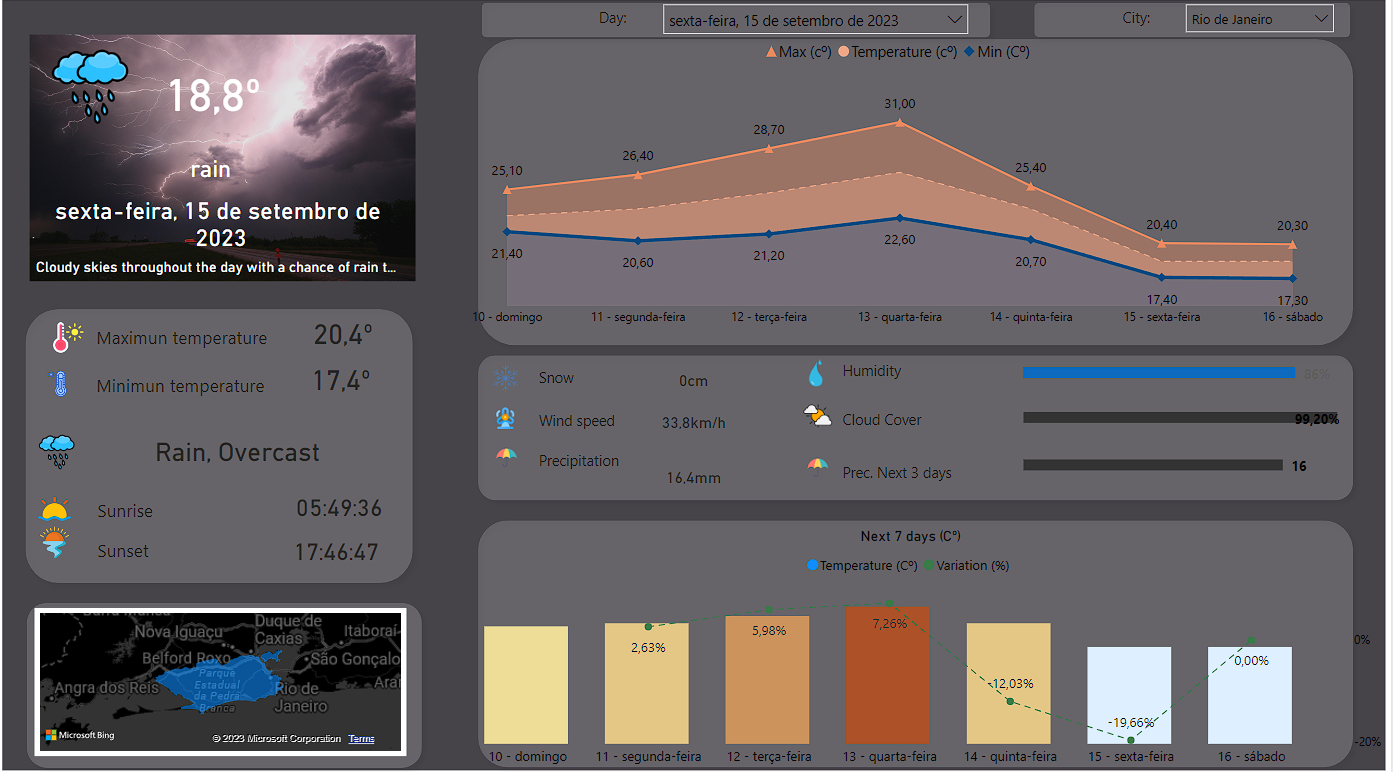

This screenshot's page, from the dashboard's own definition file:
{"tool":"powerbi","page":{"name":"Dashboard Weather","canvas":[1280,720],"ordinal":0},"visuals":[{"type":"cardVisual","fields":{"Data":["Max(Condicoes.conditions)"]},"box":[0,1.4,1280.3,718.7],"z":0},{"type":"cardVisual","fields":{"Data":["Max(Condicoes.conditions)"]},"box":[8.8,13,401,282.4],"z":1000},{"type":"shape","box":[16.7,280.8,373.9,269.7],"z":2000},{"type":"shape","box":[18.1,550.5,380.9,169.6],"z":3000},{"type":"shape","box":[432.3,475.4,821.5,244.7],"z":4000},{"type":"shape","box":[432.3,33.4,821.5,298.9],"z":5000},{"type":"shape","box":[432.3,323.9,821.5,151.5],"z":6000},{"type":"shape","box":[436.6,0,484.8,49.7],"z":7000},{"type":"shape","box":[943.6,0,308.3,49.4],"z":8000},{"type":"areaChart","title":"Next 7 days","fields":{"Category":["Dim_calendar.WeekDay/DayName"],"Y":["Sum(Temperatura.feelslikemax)","Sum(Temperatura.temp)","Sum(Temperatura.feelslikemin)"]},"box":[416.1,33.8,827.3,281],"z":9000},{"type":"slicer","fields":{"Values":["Dim_City.Cidade"]},"box":[1081.8,0,156.8,41],"z":10000},{"type":"card","fields":{"Values":["Max(Temperatura.Temp_)"]},"box":[129.6,43.3,136.9,92.9],"z":11000},{"type":"card","fields":{"Values":["Max(Temperatura.Maxima)"]},"box":[279.4,291.9,77.8,41.7],"z":12000},{"type":"card","fields":{"Values":["Min(Temperatura.Temp_min)"]},"box":[278,332.2,76.5,45.9],"z":13000},{"type":"card","fields":{"Values":["Max(Condicoes.conditions)"]},"box":[75.1,397.6,293.3,47.3],"z":14000},{"type":"barChart","title":"Huminade","fields":{"Category":["Condicoes.City"],"Y":["Medidas.Umidade"]},"box":[938.3,315.6,300.3,61.2],"z":15000},{"type":"barChart","fields":{"Category":["Condicoes.City"],"Y":["Medidas.CloudOver"]},"box":[938.3,354.5,300.3,65.3],"z":16000},{"type":"card","fields":{"Values":["Min(Dim_calendar.Date)"]},"box":[34.2,177.7,342.3,68.5],"z":17000},{"type":"card","fields":{"Values":["Max(Condicoes.icon)"]},"box":[74.6,143.3,243.3,35.4],"z":18000},{"type":"card","fields":{"Values":["Max(Condicoes.description)"]},"box":[29.3,232,342.3,42.8],"z":19000},{"type":"textbox","box":[85.6,299.1,177.3,37.4],"z":20000},{"type":"textbox","box":[86.2,344.7,176.5,33.4],"z":21000},{"type":"card","fields":{"Values":["Min(Condicoes.show)"]},"box":[601.4,342.3,77,25.7],"z":22000},{"type":"card","fields":{"Values":["Min(Condicoes.Wind_speed)"]},"box":[601.4,381.4,77,25.7],"z":23000},{"type":"card","fields":{"Values":["Min(Condicoes.Perciptacao)"]},"box":[601.4,431.5,77,25.7],"z":24000},{"type":"barChart","fields":{"Category":["Condicoes.City"],"Y":["Sum(Condicoes.precip)"]},"box":[938.3,398,300.3,65.1],"z":25000},{"type":"card","fields":{"Values":["Max(Condicoes.sunrise - hr)"]},"box":[253,444.8,123.7,55.6],"z":26000},{"type":"card","fields":{"Values":["Max(Condicoes.sunset - hr)"]},"box":[253,496.3,118.2,33.4],"z":27000},{"type":"lineStackedColumnComboChart","title":"Next 7 days (Cº)","fields":{"Category":["Dim_calendar.WeekDay/DayName"],"Y":["Medidas.Temperatura"],"Y2":["Medidas.Dif_day"]},"box":[398.5,491.4,881.4,228.6],"z":28000},{"type":"textbox","box":[492.9,338.7,108.8,30.3],"z":29000},{"type":"textbox","box":[492.9,378.7,108.8,30.3],"z":30000},{"type":"textbox","box":[492.9,415.8,108.8,38.6],"z":31000},{"type":"textbox","box":[771.9,332.9,115.8,31.4],"z":32000},{"type":"textbox","box":[771.9,377.5,111,27.7],"z":33000},{"type":"textbox","box":[771.9,425.7,144.7,38.6],"z":34000},{"type":"cardVisual","fields":{"Data":["Max(Condicoes.conditions)"]},"box":[28.9,33.2,118.4,102.5],"z":35000},{"type":"filledMap","fields":{"Category":["Dim_City.Cidade"],"Series":["Temperatura.temp"]},"box":[34.8,564.4,342,136.2],"z":36000},{"type":"textbox","box":[87.6,458.7,76.5,33.4],"z":37000},{"type":"textbox","box":[87.6,496.3,77.8,33.4],"z":38000},{"type":"cardVisual","fields":{"Data":["Max(Condicoes.conditions)"]},"box":[16.7,387.8,79.2,66.7],"z":39000},{"type":"slicer","fields":{"Values":["Dim_calendar.Date"]},"box":[601.8,0,300.3,42.2],"z":40000},{"type":"cardVisual","fields":{"Data":["Min(Tb_icones_fixos.Name)"]},"box":[28.9,283.7,78.5,62],"z":41000},{"type":"cardVisual","fields":{"Data":["Min(Tb_icones_fixos.Name)"]},"box":[17.9,326.3,78.5,62],"z":42000},{"type":"cardVisual","fields":{"Data":["Min(Tb_icones_fixos.Name)"]},"box":[16.5,440.6,78.5,62],"z":43000},{"type":"cardVisual","fields":{"Data":["Min(Tb_icones_fixos.Name)"]},"box":[16.5,472.3,78.5,62],"z":44000},{"type":"cardVisual","fields":{"Data":["Min(Tb_icones_fixos.Name)"]},"box":[432.4,323.6,73,48.2],"z":45000},{"type":"cardVisual","fields":{"Data":["Min(Tb_icones_fixos.Name)"]},"box":[432.4,360.8,73,48.2],"z":46000},{"type":"cardVisual","fields":{"Data":["Min(Tb_icones_fixos.Name)"]},"box":[433.7,396.6,73,48.2],"z":47000},{"type":"cardVisual","fields":{"Data":["Min(Tb_icones_fixos.Name)"]},"box":[720.1,318.1,73,55.1],"z":48000},{"type":"cardVisual","fields":{"Data":["Min(Tb_icones_fixos.Name)"]},"box":[720.1,358,73,55.1],"z":49000},{"type":"cardVisual","fields":{"Data":["Min(Tb_icones_fixos.Name)"]},"box":[720.1,404.8,73,48.2],"z":50000},{"type":"textbox","box":[1028.7,8.4,68.7,32.6],"z":51000},{"type":"textbox","box":[547.5,8.4,68.7,32.6],"z":52000}]}

Visuals, with their boxes in screenshot pixels (x1, y1, x2, y2), scaled from the page's 1280x720 canvas onto the 1393x772 screenshot:
cardVisual - Max(Condicoes.conditions): l=0, t=2, r=1392, b=771
cardVisual - Max(Condicoes.conditions): l=10, t=14, r=446, b=317
shape: l=18, t=301, r=425, b=590
shape: l=20, t=590, r=434, b=771
shape: l=470, t=510, r=1364, b=771
shape: l=470, t=36, r=1364, b=356
shape: l=470, t=347, r=1364, b=510
shape: l=475, t=0, r=1003, b=53
shape: l=1027, t=0, r=1362, b=53
"Next 7 days" areaChart: l=453, t=36, r=1353, b=338
slicer - Dim_City.Cidade: l=1177, t=0, r=1348, b=44
card - Max(Temperatura.Temp_): l=141, t=46, r=290, b=146
card - Max(Temperatura.Maxima): l=304, t=313, r=389, b=358
card - Min(Temperatura.Temp_min): l=303, t=356, r=386, b=405
card - Max(Condicoes.conditions): l=82, t=426, r=401, b=477
"Huminade" barChart: l=1021, t=338, r=1348, b=404
barChart - Condicoes.City x Medidas.CloudOver: l=1021, t=380, r=1348, b=450
card - Min(Dim_calendar.Date): l=37, t=191, r=410, b=264
card - Max(Condicoes.icon): l=81, t=154, r=346, b=192
card - Max(Condicoes.description): l=32, t=249, r=404, b=295
textbox: l=93, t=321, r=286, b=361
textbox: l=94, t=370, r=286, b=405
card - Min(Condicoes.show): l=654, t=367, r=738, b=395
card - Min(Condicoes.Wind_speed): l=654, t=409, r=738, b=437
card - Min(Condicoes.Perciptacao): l=654, t=463, r=738, b=490
barChart - Condicoes.City x Sum(Condicoes.precip): l=1021, t=427, r=1348, b=497
card - Max(Condicoes.sunrise - hr): l=275, t=477, r=410, b=537
card - Max(Condicoes.sunset - hr): l=275, t=532, r=404, b=568
"Next 7 days (Cº)" lineStackedColumnComboChart: l=434, t=527, r=1392, b=771
textbox: l=536, t=363, r=655, b=396
textbox: l=536, t=406, r=655, b=439
textbox: l=536, t=446, r=655, b=487
textbox: l=840, t=357, r=966, b=391
textbox: l=840, t=405, r=961, b=434
textbox: l=840, t=456, r=998, b=498
cardVisual - Max(Condicoes.conditions): l=31, t=36, r=160, b=146
filledMap - Dim_City.Cidade x Temperatura.temp: l=38, t=605, r=410, b=751
textbox: l=95, t=492, r=179, b=528
textbox: l=95, t=532, r=180, b=568
cardVisual - Max(Condicoes.conditions): l=18, t=416, r=104, b=487
slicer - Dim_calendar.Date: l=655, t=0, r=982, b=45
cardVisual - Min(Tb_icones_fixos.Name): l=31, t=304, r=117, b=371
cardVisual - Min(Tb_icones_fixos.Name): l=19, t=350, r=105, b=416
cardVisual - Min(Tb_icones_fixos.Name): l=18, t=472, r=103, b=539
cardVisual - Min(Tb_icones_fixos.Name): l=18, t=506, r=103, b=573
cardVisual - Min(Tb_icones_fixos.Name): l=471, t=347, r=550, b=399
cardVisual - Min(Tb_icones_fixos.Name): l=471, t=387, r=550, b=439
cardVisual - Min(Tb_icones_fixos.Name): l=472, t=425, r=551, b=477
cardVisual - Min(Tb_icones_fixos.Name): l=784, t=341, r=863, b=400
cardVisual - Min(Tb_icones_fixos.Name): l=784, t=384, r=863, b=443
cardVisual - Min(Tb_icones_fixos.Name): l=784, t=434, r=863, b=486
textbox: l=1120, t=9, r=1194, b=44
textbox: l=596, t=9, r=671, b=44
